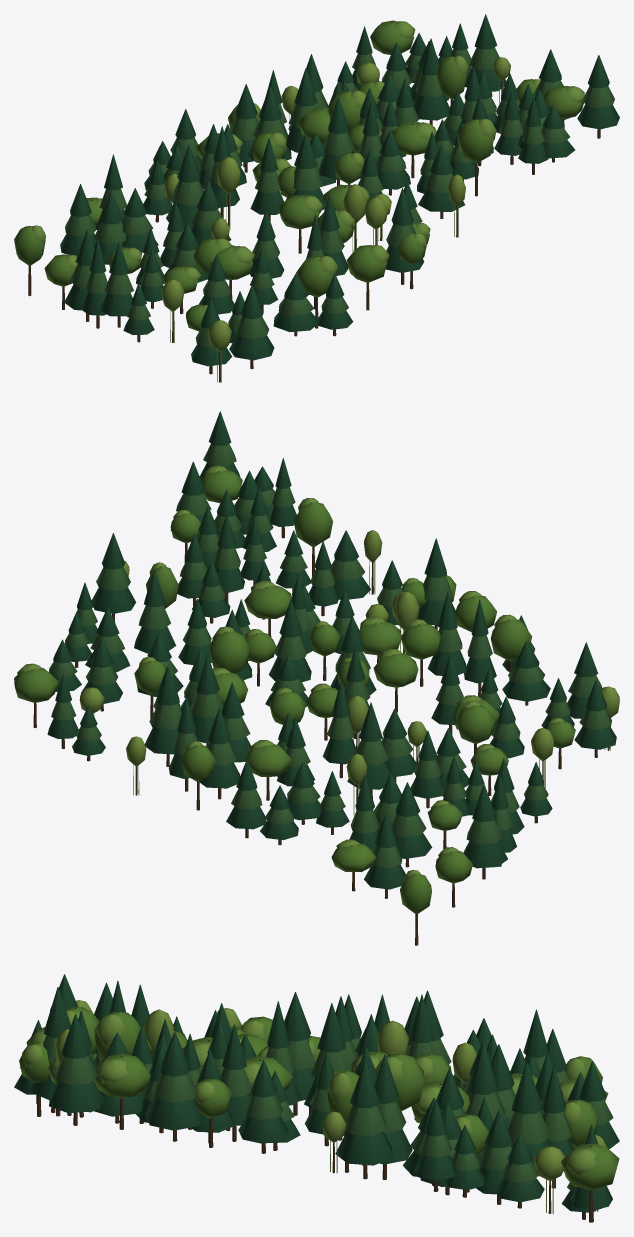
The model's file is forest_0_7.dae.
3 renders of one model, top to bottom at view 1: azimuth 30°, elevation 25°; view 2: azimuth 150°, elevation 25°; view 3: azimuth 270°, elevation 25°, orthographic. The views are drawn at different scales.
Visible parts, largest first — view 1: forest_0_7; view 2: forest_0_7; view 3: forest_0_7.
Part boxes in pixels (left/top/right/bottom): forest_0_7: left=14, top=14, right=619, bottom=382; forest_0_7: left=14, top=411, right=619, bottom=945; forest_0_7: left=14, top=974, right=619, bottom=1222.
Size of the model in its own units: 126 by 118 by 82.15.
